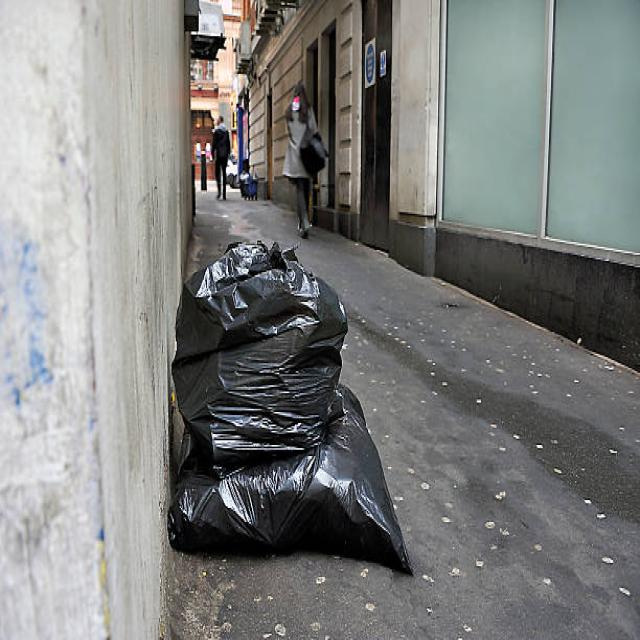trash: (166, 244, 411, 560)
